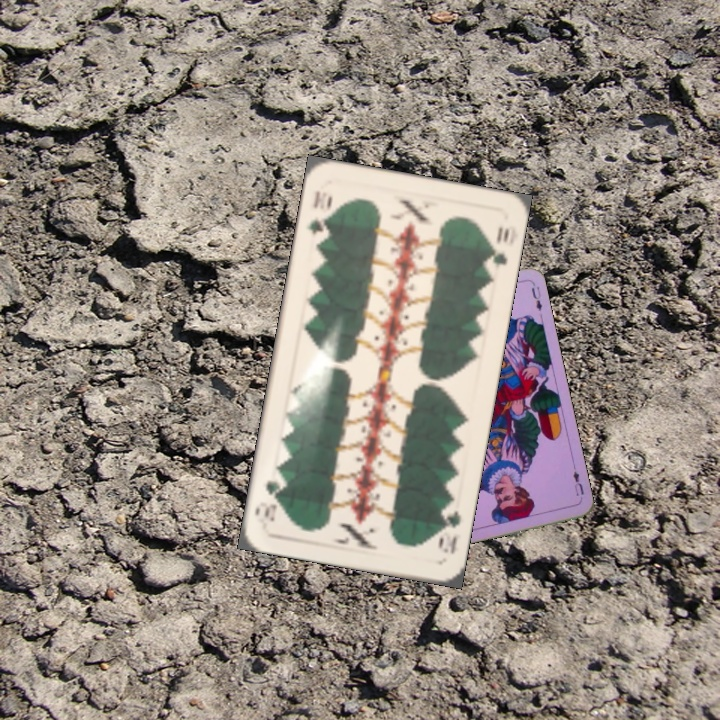EU: (569, 467, 586, 498)
G10: (304, 186, 331, 237), (436, 506, 463, 557)
